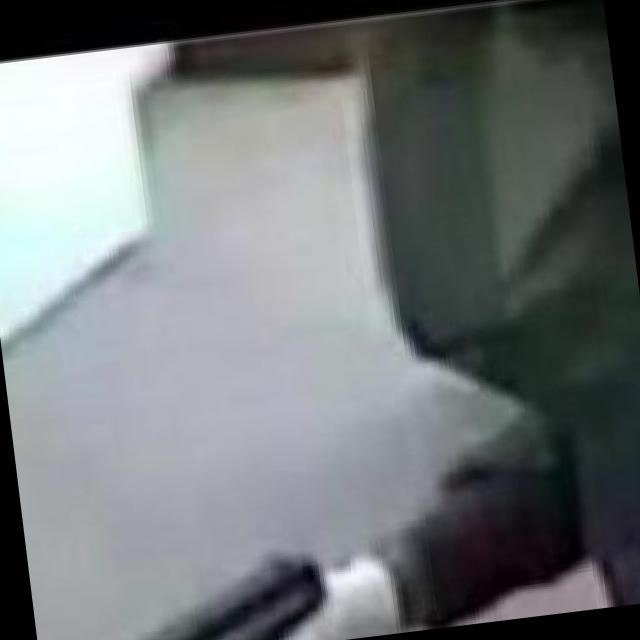Guns: (65, 509, 372, 640)
